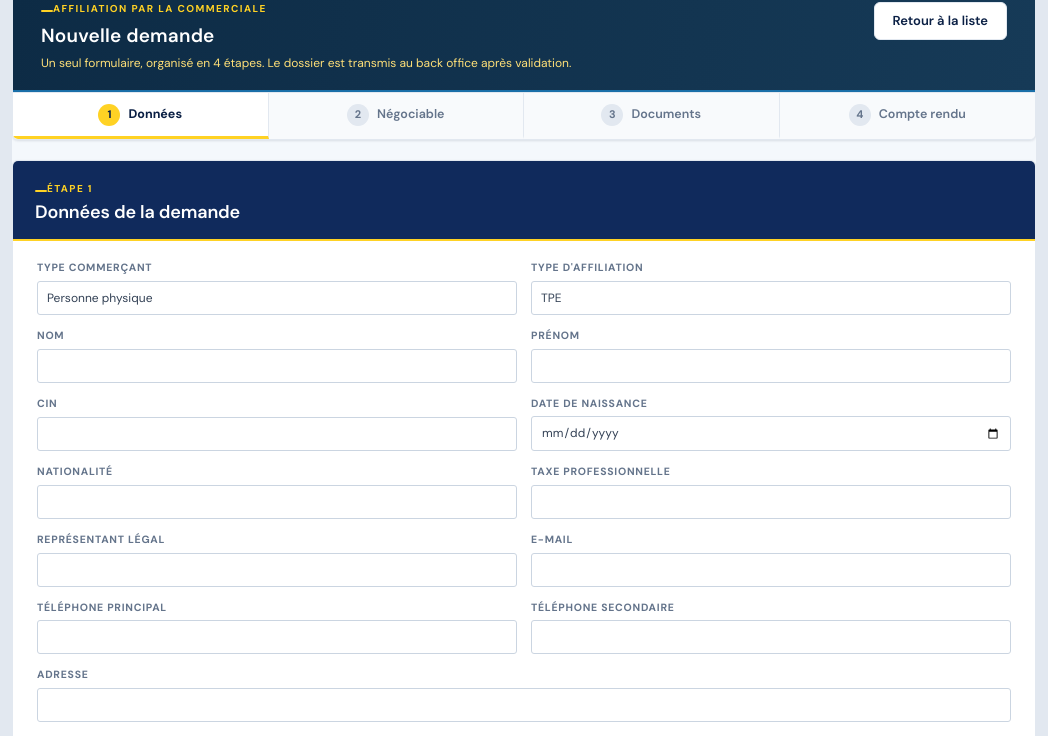
Test case: CommercialDossierCreatePage › n'affiche pas de champ nombre de points de vente pour une affiliation e-commerce
Select "E-commerce" in the dropdown labelled "Type d'affiliation" at (771,298), box [531,281,1011,315]
(page scrolled)
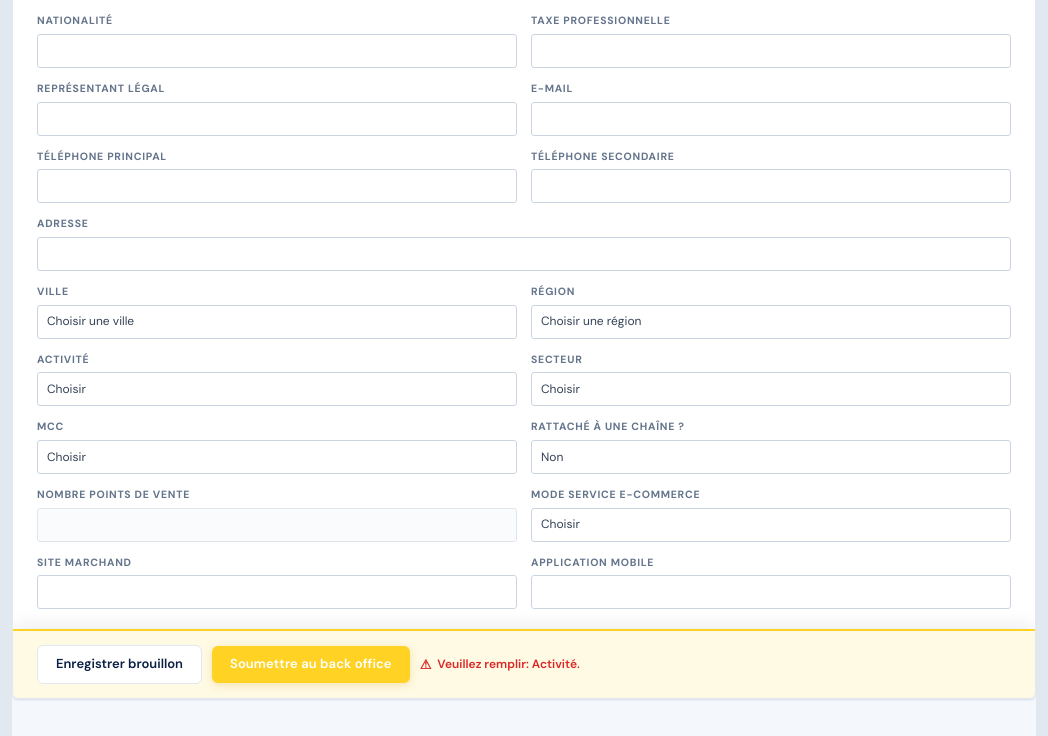
Expected: the dropdown labelled "Mode service e-commerce" is shown, [531,508,1011,542]
Now the number field labelled "Nombre points de vente" is disabled, box [37,508,517,542]
